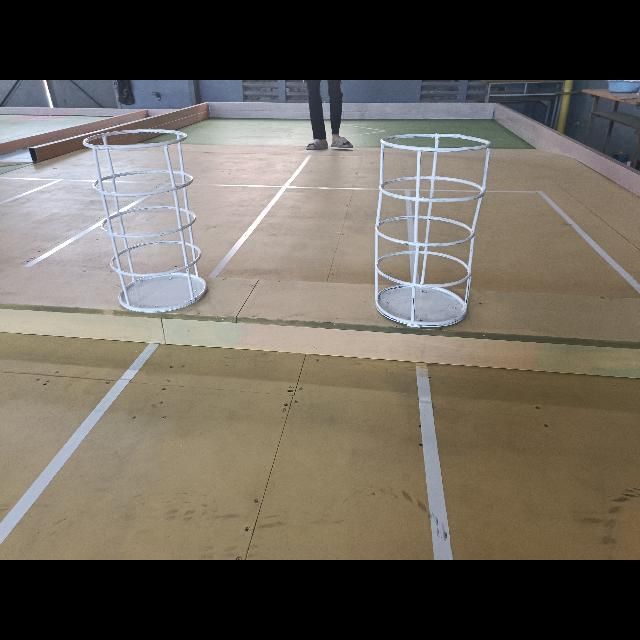S: (375, 129, 493, 336), (82, 126, 210, 314)
